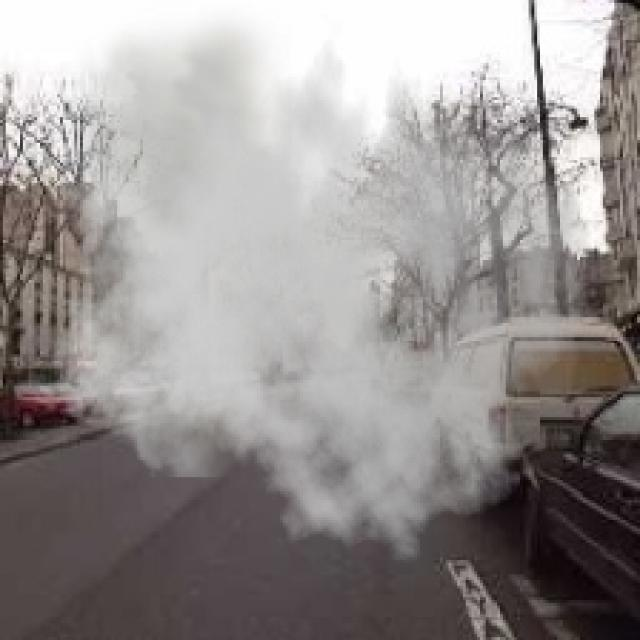smoke: (34, 3, 592, 563)
